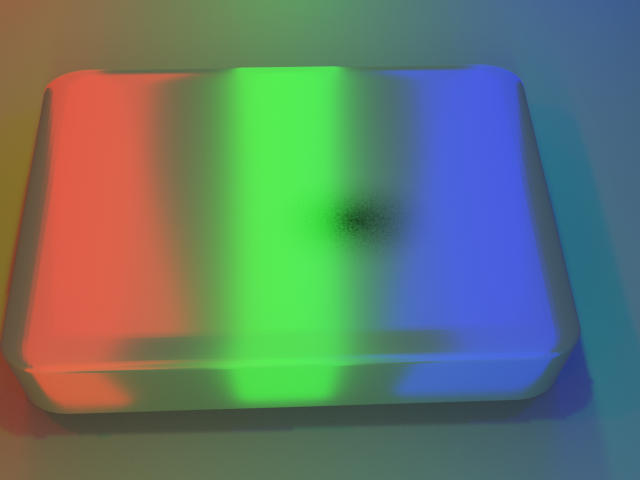stain: (238, 153, 487, 296)
